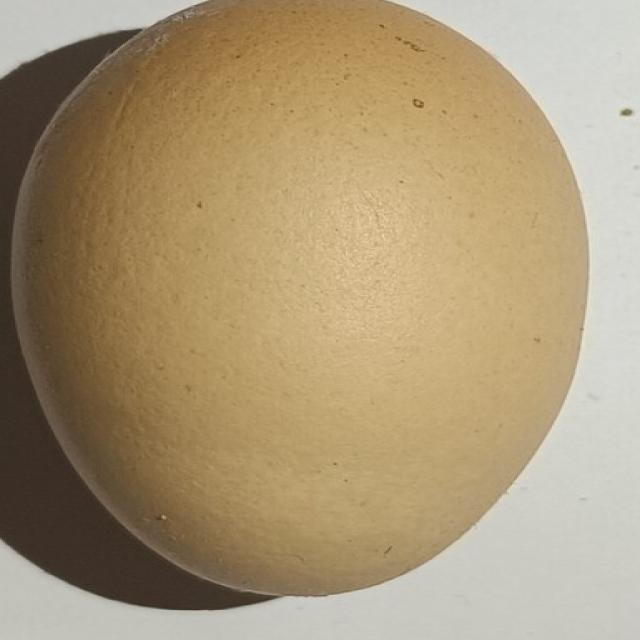fresh: (5, 0, 595, 600)
